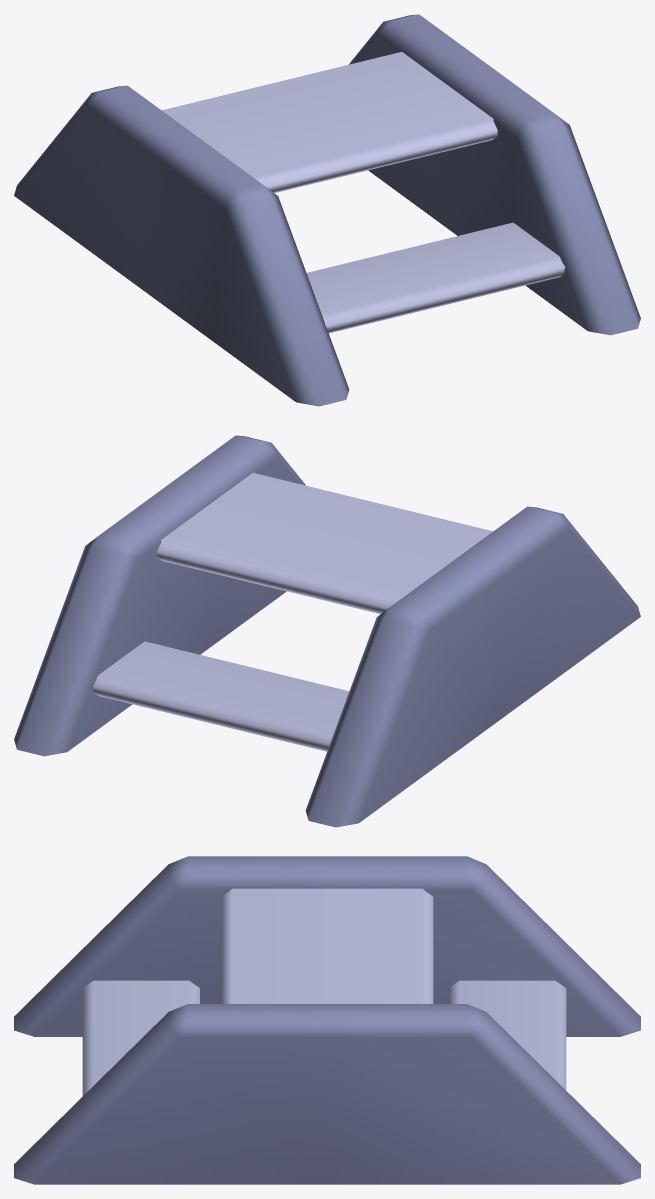
The model's file is Shelf_07.fbx.
3 renders of one model, top to bottom at view 1: azimuth 30°, elevation 25°; view 2: azimuth 150°, elevation 25°; view 3: azimuth 270°, elevation 25°, orthographic. The views are drawn at different scales.
Parts seen in each view (by area): view 1: Shelf_07; view 2: Shelf_07; view 3: Shelf_07.
Part boxes in pixels (x1,y1,x2,y2): Shelf_07: (14,14,640,406); Shelf_07: (14,435,640,827); Shelf_07: (14,856,640,1184).
Size of the model in its own units: 220 by 94.17 by 334.
